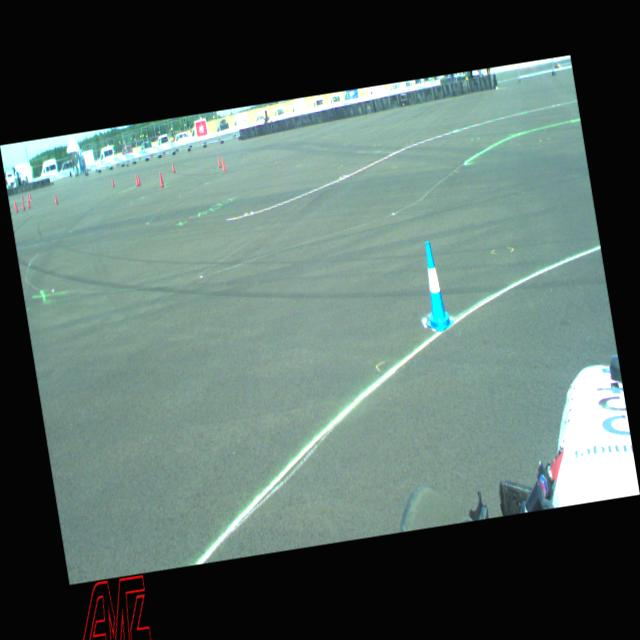blue_cone: (414, 240, 454, 334)
unknown_cone: (220, 158, 227, 172), (158, 172, 164, 188), (216, 155, 222, 167), (171, 162, 176, 172), (134, 174, 138, 185), (136, 173, 140, 184), (21, 199, 25, 210), (54, 194, 58, 204), (28, 192, 32, 201), (13, 200, 16, 210), (27, 193, 30, 202), (15, 203, 18, 212), (111, 178, 114, 186), (21, 192, 24, 200), (27, 200, 30, 208)
